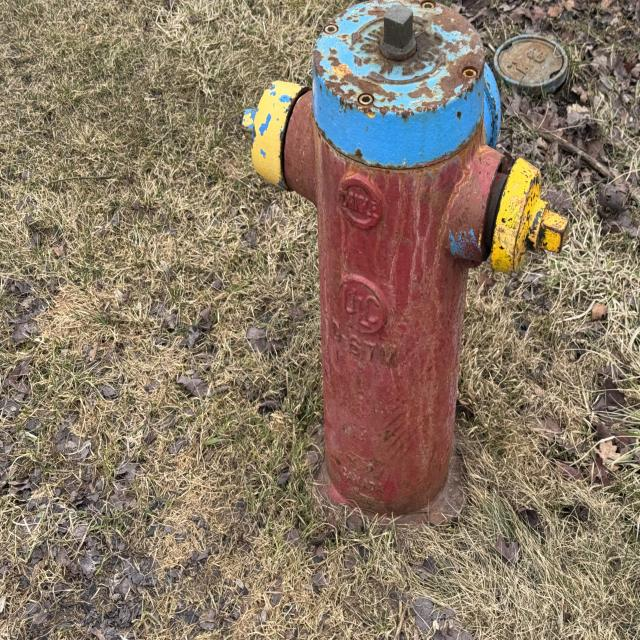Fire hydrant: (240, 1, 570, 540)
